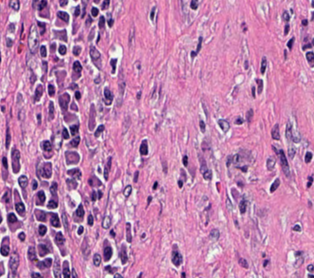nucleus: (28, 24, 38, 53), (117, 69, 124, 106), (89, 46, 100, 68), (58, 93, 69, 110), (11, 149, 19, 172), (65, 151, 79, 164), (88, 104, 95, 129), (104, 87, 113, 105), (41, 162, 51, 178), (104, 157, 111, 179), (199, 155, 207, 173), (34, 85, 42, 101), (270, 178, 279, 192), (15, 200, 24, 214), (50, 213, 59, 227), (218, 119, 229, 130), (271, 124, 279, 139), (266, 157, 275, 170), (74, 205, 83, 218), (55, 232, 64, 245), (73, 61, 81, 75), (57, 11, 68, 21), (55, 30, 66, 40), (94, 125, 104, 136), (18, 175, 27, 187), (5, 127, 10, 148), (67, 169, 80, 177), (9, 0, 19, 10), (129, 26, 134, 46), (41, 141, 51, 151), (35, 210, 45, 220), (140, 140, 147, 154), (260, 57, 266, 73), (102, 216, 110, 228), (126, 223, 131, 242), (37, 191, 44, 204), (239, 200, 246, 213), (196, 37, 202, 52), (70, 136, 79, 146), (66, 179, 76, 188), (47, 199, 57, 208), (7, 213, 16, 223), (210, 229, 219, 239), (123, 185, 131, 196), (38, 224, 46, 235), (37, 22, 44, 34), (256, 79, 262, 93), (70, 125, 78, 135), (110, 59, 116, 72), (50, 182, 56, 195), (98, 16, 104, 28), (48, 84, 54, 96), (49, 101, 53, 119), (246, 109, 252, 121), (203, 170, 211, 179), (62, 128, 69, 138), (40, 45, 46, 56), (38, 1, 46, 9), (190, 0, 197, 9), (91, 7, 98, 16), (58, 45, 65, 54), (73, 46, 80, 55), (150, 7, 155, 19), (2, 192, 8, 202), (199, 120, 204, 131), (2, 157, 7, 168), (226, 198, 231, 209), (88, 214, 93, 225), (74, 6, 79, 16), (133, 171, 138, 181), (102, 0, 108, 8), (77, 226, 83, 234), (18, 232, 24, 240), (32, 180, 37, 189), (91, 191, 96, 200), (6, 38, 11, 46), (42, 61, 46, 71), (75, 91, 80, 99), (183, 156, 187, 165), (235, 118, 242, 123), (60, 1, 67, 5), (108, 19, 112, 26), (178, 180, 182, 187), (153, 182, 157, 189), (97, 191, 101, 198), (37, 114, 40, 123), (191, 52, 196, 57), (72, 104, 77, 109), (70, 84, 76, 88), (110, 230, 114, 236), (252, 87, 254, 96), (137, 92, 140, 98), (148, 197, 151, 203), (52, 43, 54, 50), (1, 106, 4, 110)
